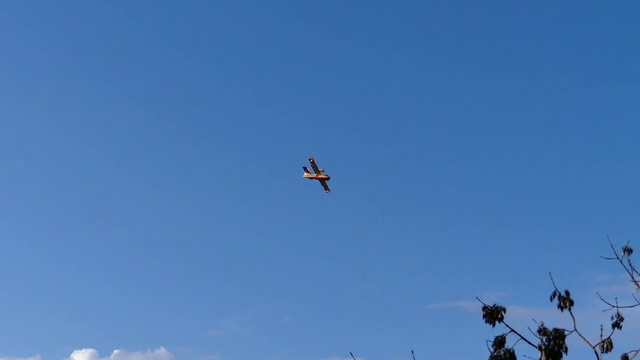plane: (302, 155, 330, 192)
